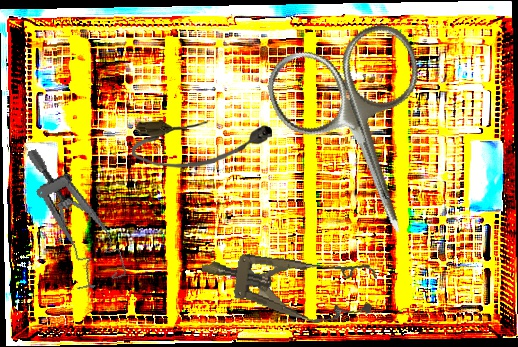Cannula: (131, 116, 273, 170)
Iris Scissors: (258, 15, 469, 259)
Speculum: (195, 233, 380, 333), (25, 134, 128, 296)
